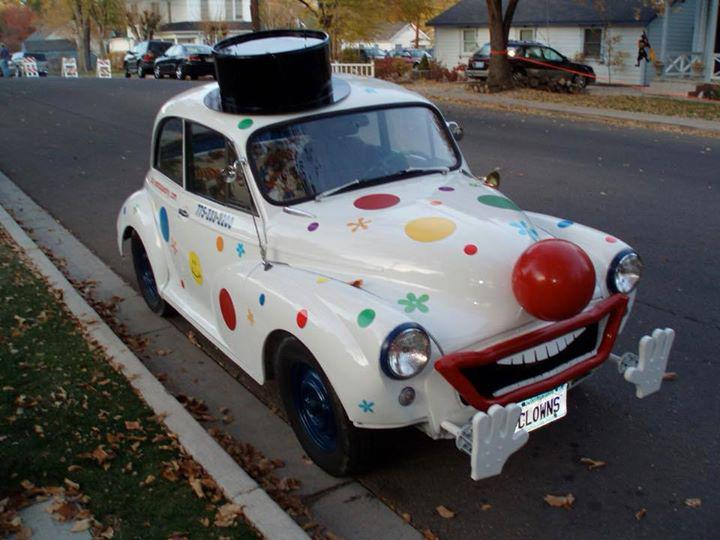car: (105, 29, 683, 495)
